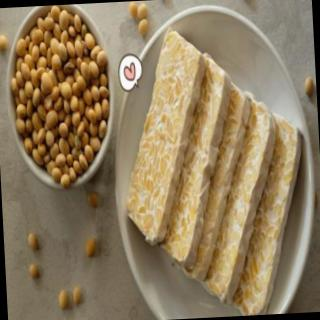Tempe: (115, 20, 313, 320)
